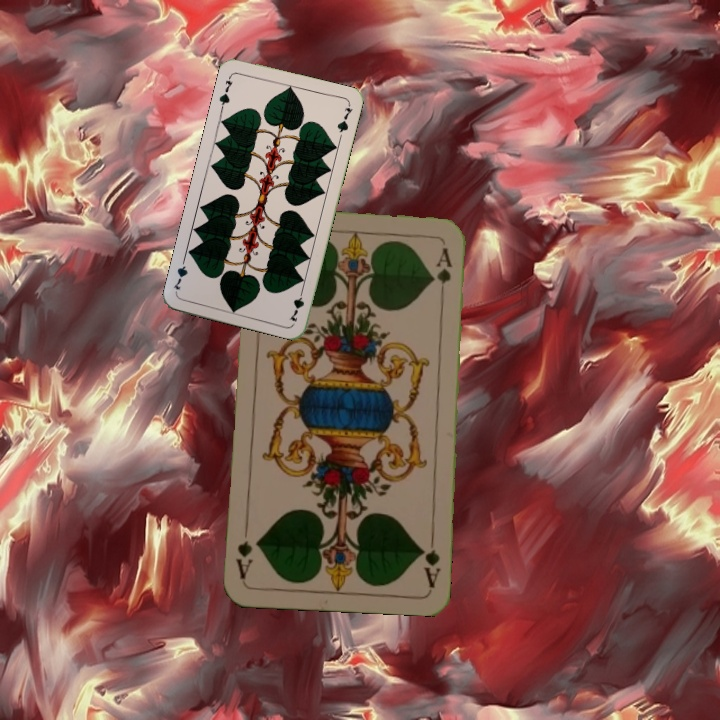G7: (285, 284, 307, 324), (215, 72, 236, 112)
GA: (417, 531, 443, 590)
